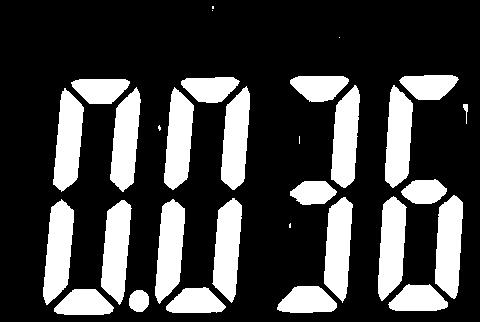0: (41, 72, 142, 319), (154, 79, 253, 317)
3: (275, 73, 363, 317)
6: (373, 72, 469, 317)
dot: (129, 289, 155, 316)
